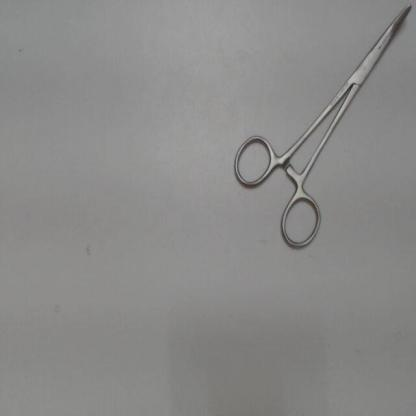Crile Artery Forceps: (227, 1, 415, 254)
